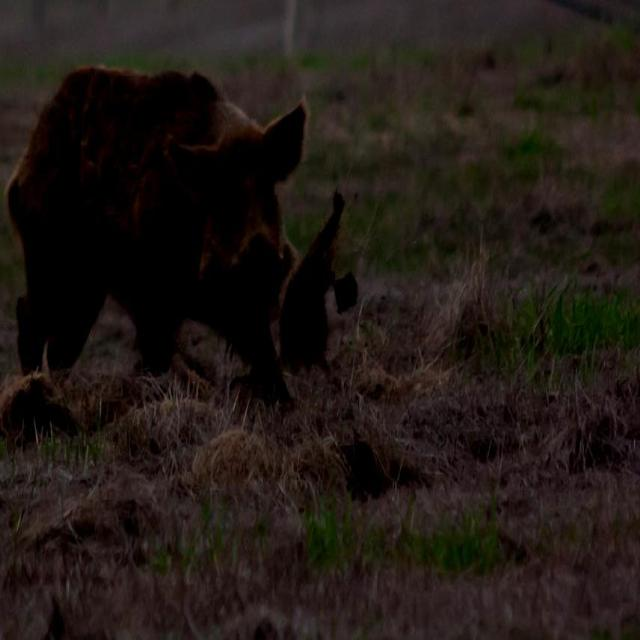pig: (8, 68, 306, 397)
